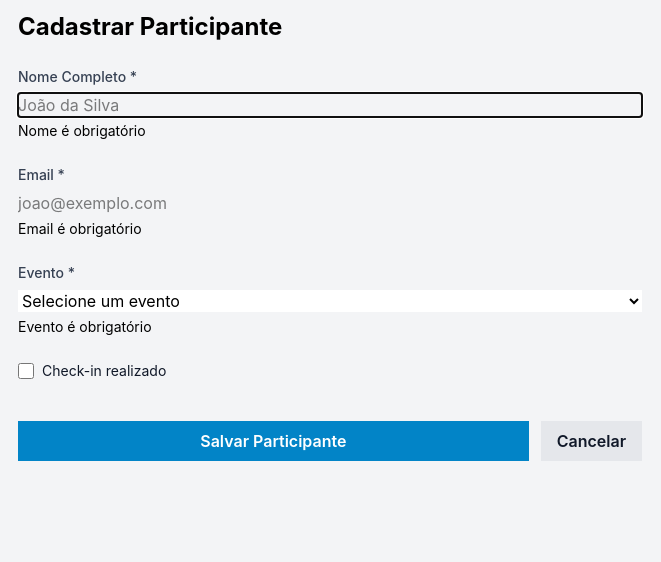
Test: ParticipantForm Component › should display validation errors when submitting empty form
This screenshot has width=661, height=562.
What coordinates should you click on to do the following:
click the button "Salvar Participante"
I would click on:
 (273, 441)
Its box is [18,421,529,461].
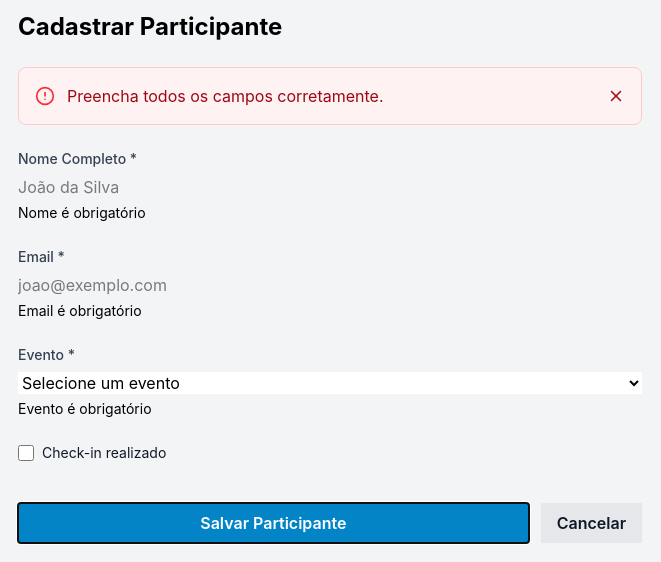
Result: the text "Preencha todos os campos corretamente." is shown at [67,86,384,106]
